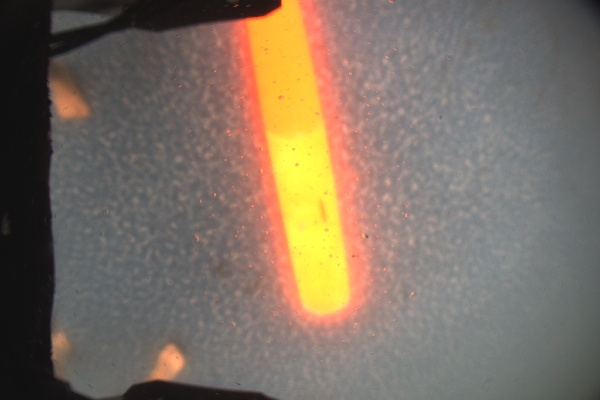path: (280, 40, 498, 274)
